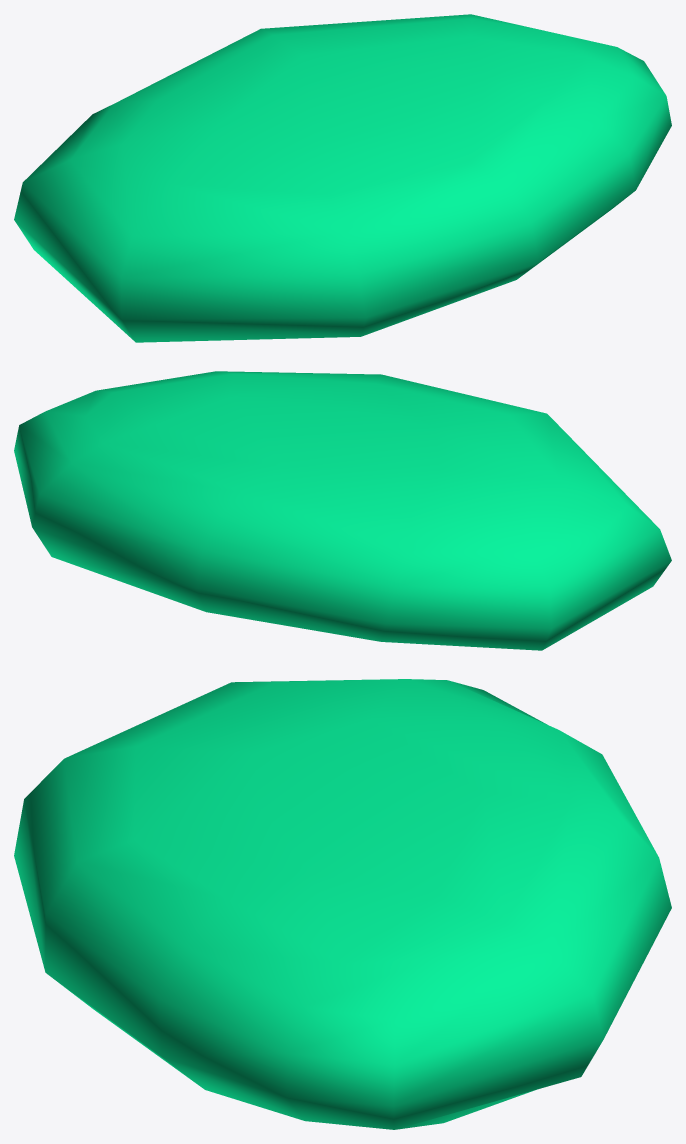
Rendered from rock_balancing_small_02.fbx.
3 views of the same model, one above another, from view 1: azimuth 30°, elevation 25°; view 2: azimuth 150°, elevation 25°; view 3: azimuth 270°, elevation 25° (orthographic). The views are drawn at different scales.
Parts seen in each view (by area): view 1: rock_balancing_small_02; view 2: rock_balancing_small_02; view 3: rock_balancing_small_02.
Boxes of the visible parts, bbox=[...] form: rock_balancing_small_02: bbox=[14, 14, 671, 342]; rock_balancing_small_02: bbox=[14, 371, 671, 650]; rock_balancing_small_02: bbox=[14, 679, 671, 1129].
Size of the model in its own units: 21.9 by 5.62 by 15.57.
